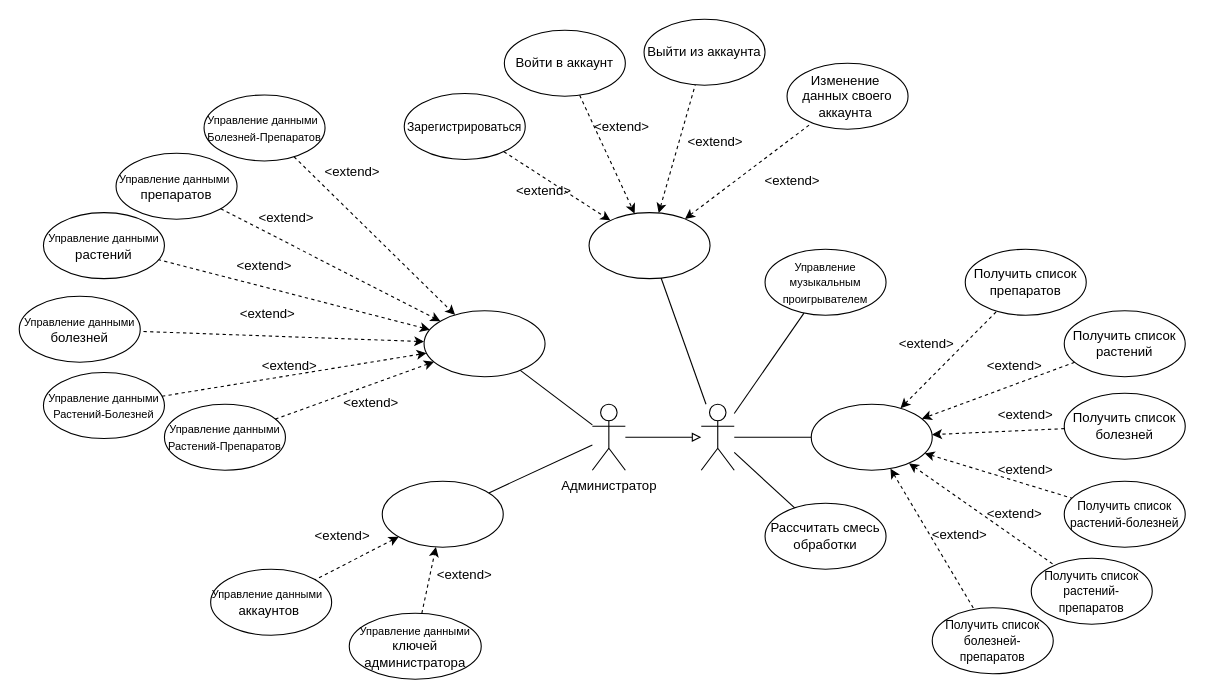
Image size: 1205x699. Some labels were removed from this diagram. Here are the shapes that lost their labels. From the top down, the centre of each, then its label:
point 649,245: Управлять своим аккаунтом
point 484,343: Манипуляция данными
point 717,436: Пользователь
point 871,436: Получить списки
point 442,513: Управлять аккаунтами
